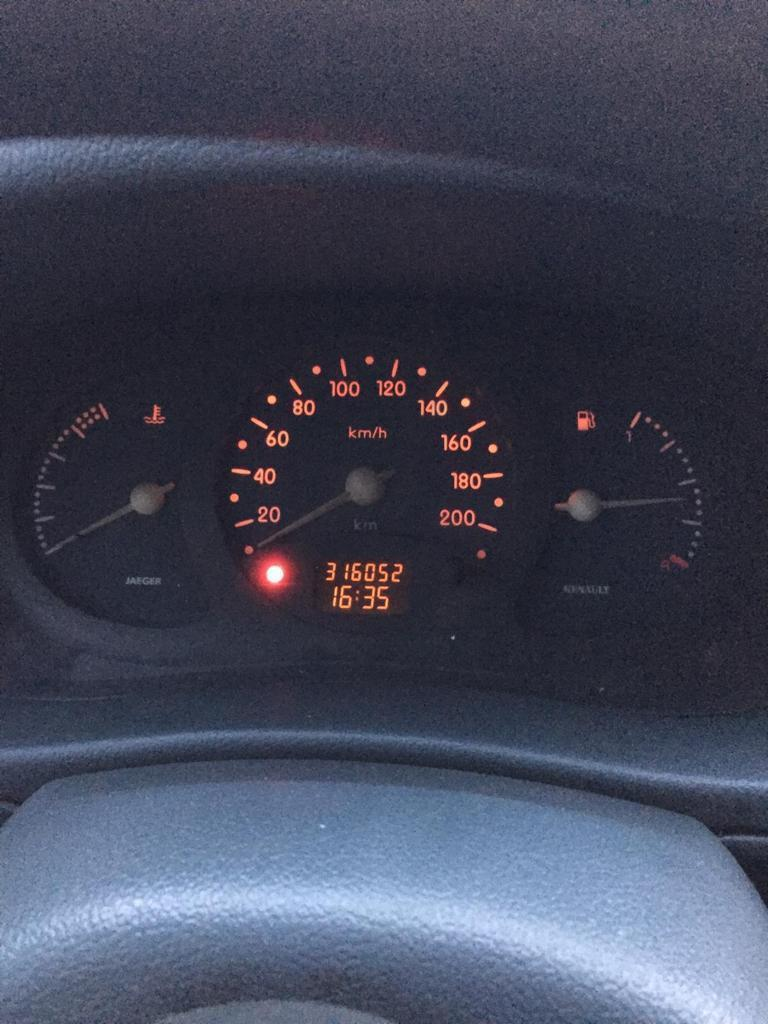0: (364, 562, 375, 581)
1: (331, 585, 338, 607), (343, 563, 349, 580)
2: (391, 563, 403, 582)
3: (361, 585, 375, 609), (325, 561, 336, 580)
5: (376, 585, 390, 609), (378, 563, 388, 582)
6: (338, 584, 352, 609), (350, 562, 361, 581)
X: (355, 589, 359, 601)
odometer: (312, 553, 412, 617)
